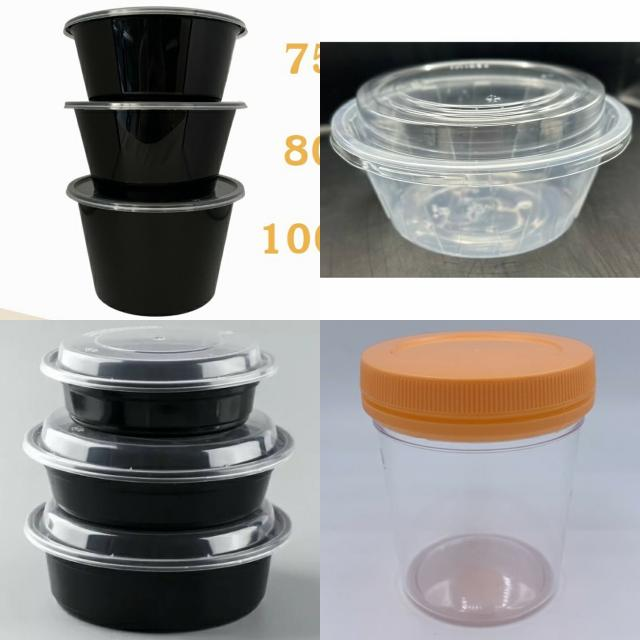Single-Use-Plastic: (360, 331, 596, 626), (330, 60, 632, 258), (25, 500, 291, 632), (25, 409, 294, 529), (40, 326, 276, 435), (68, 175, 244, 316), (65, 101, 245, 201), (64, 8, 246, 101)
